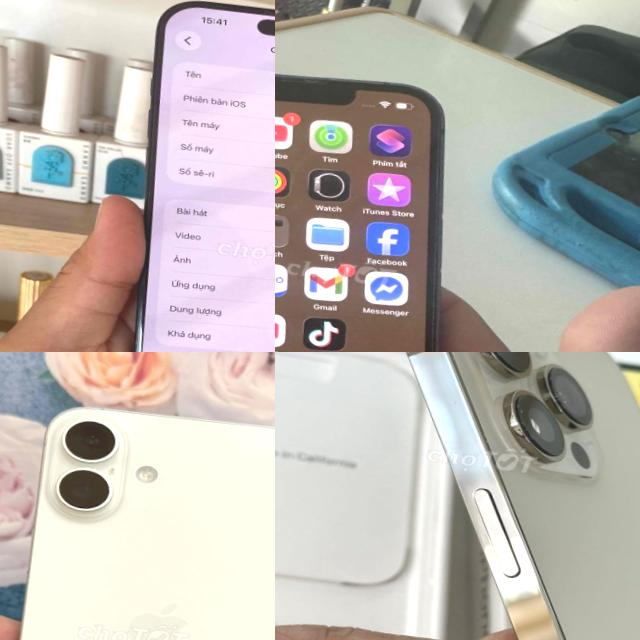gen_12_13: (275, 55, 507, 352)
gen_14: (345, 352, 640, 640)
gen_16: (0, 380, 275, 640), (98, 0, 275, 352)
